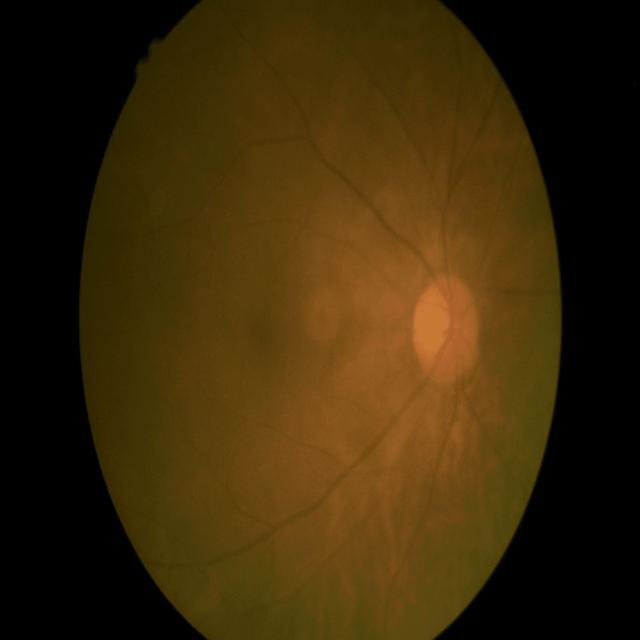cup: (426, 298, 462, 360)
disk: (413, 276, 483, 382)
